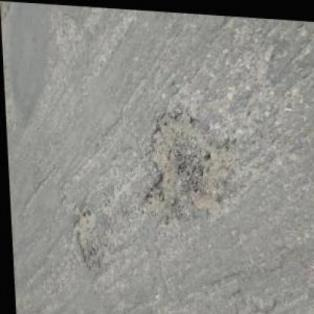Hueco: (135, 108, 236, 222), (68, 205, 100, 271)
